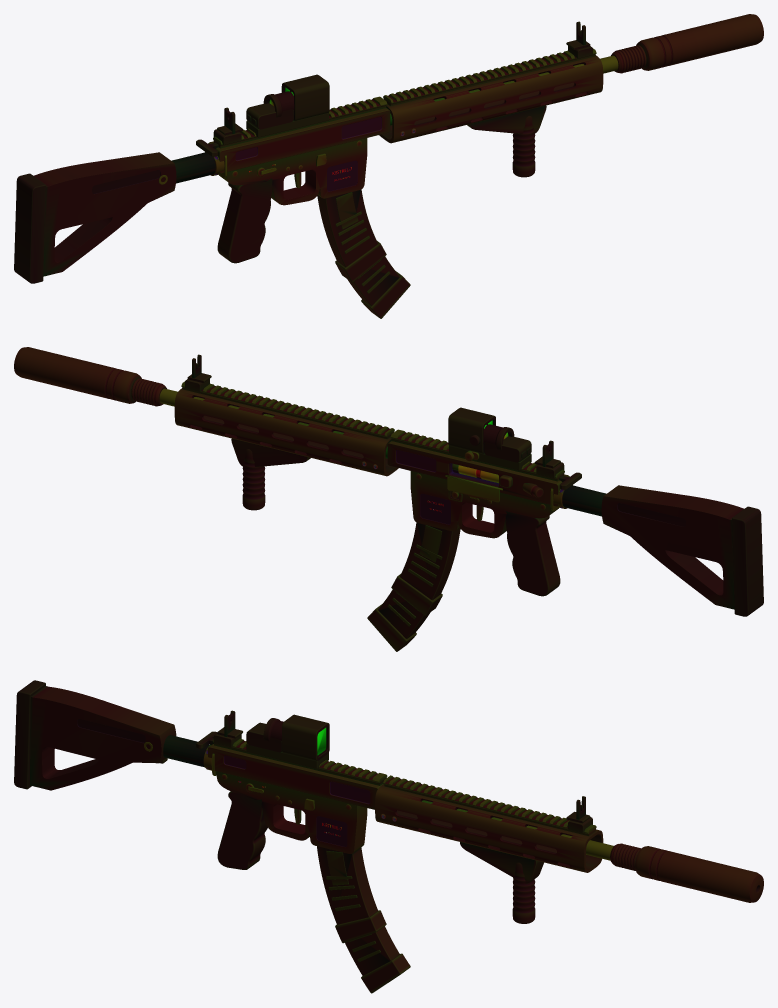
The model's file is kestrel7.glb.
3 views of the same model, one above another, from view 1: azimuth 30°, elevation 25°; view 2: azimuth 150°, elevation 25°; view 3: azimuth 330°, elevation 25° (orthographic).
Visible parts, largest first — view 1: base, att_muzzle_suppressor, att_mag_40, att_optic_holo, att_mag_30, att_under_agrip, att_under_vgrip; view 2: base, att_muzzle_suppressor, att_mag_30, att_optic_holo, att_mag_40, att_under_agrip, att_under_vgrip, att_optic_reddot; view 3: base, att_muzzle_suppressor, att_mag_40, att_optic_holo, att_mag_30, att_under_agrip, att_under_vgrip.
Boxes of the visible parts, left/top/right/bottom form: base: left=14, top=46, right=618, bottom=283; att_muzzle_suppressor: left=611, top=14, right=763, bottom=73; att_mag_40: left=317, top=189, right=410, bottom=318; att_optic_holo: left=246, top=74, right=329, bottom=137; att_mag_30: left=317, top=189, right=386, bottom=282; att_under_agrip: left=467, top=105, right=546, bottom=133; att_under_vgrip: left=512, top=116, right=535, bottom=177; base: left=159, top=379, right=763, bottom=616; att_muzzle_suppressor: left=14, top=347, right=166, bottom=406; att_mag_30: left=391, top=522, right=460, bottom=615; att_optic_holo: left=448, top=407, right=531, bottom=470; att_mag_40: left=367, top=522, right=460, bottom=651; att_under_agrip: left=231, top=438, right=310, bottom=466; att_under_vgrip: left=242, top=449, right=265, bottom=510; att_optic_reddot: left=469, top=424, right=514, bottom=459; base: left=14, top=680, right=613, bottom=872; att_muzzle_suppressor: left=610, top=843, right=763, bottom=902; att_mag_40: left=317, top=846, right=410, bottom=993; att_optic_holo: left=246, top=714, right=329, bottom=768; att_mag_30: left=317, top=847, right=386, bottom=943; att_under_agrip: left=460, top=842, right=543, bottom=883; att_under_vgrip: left=512, top=862, right=535, bottom=923.
Size of the model in its own units: 1.06 by 0.3433 by 0.0511.
